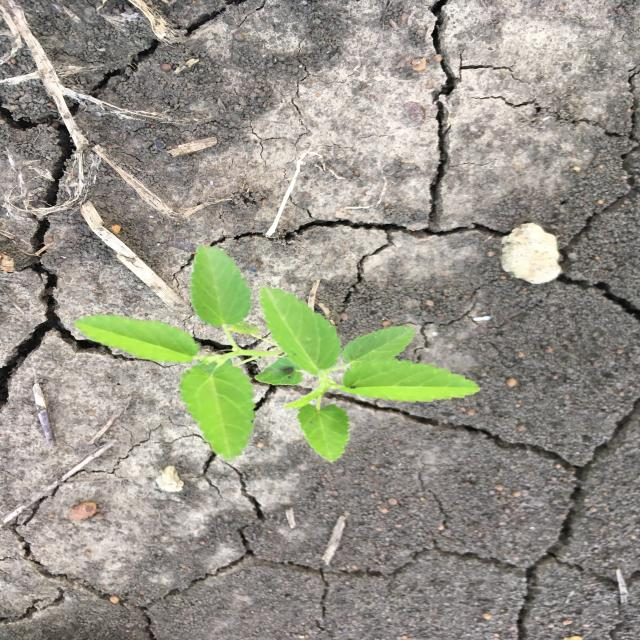PricklySida: (71, 243, 484, 465)
